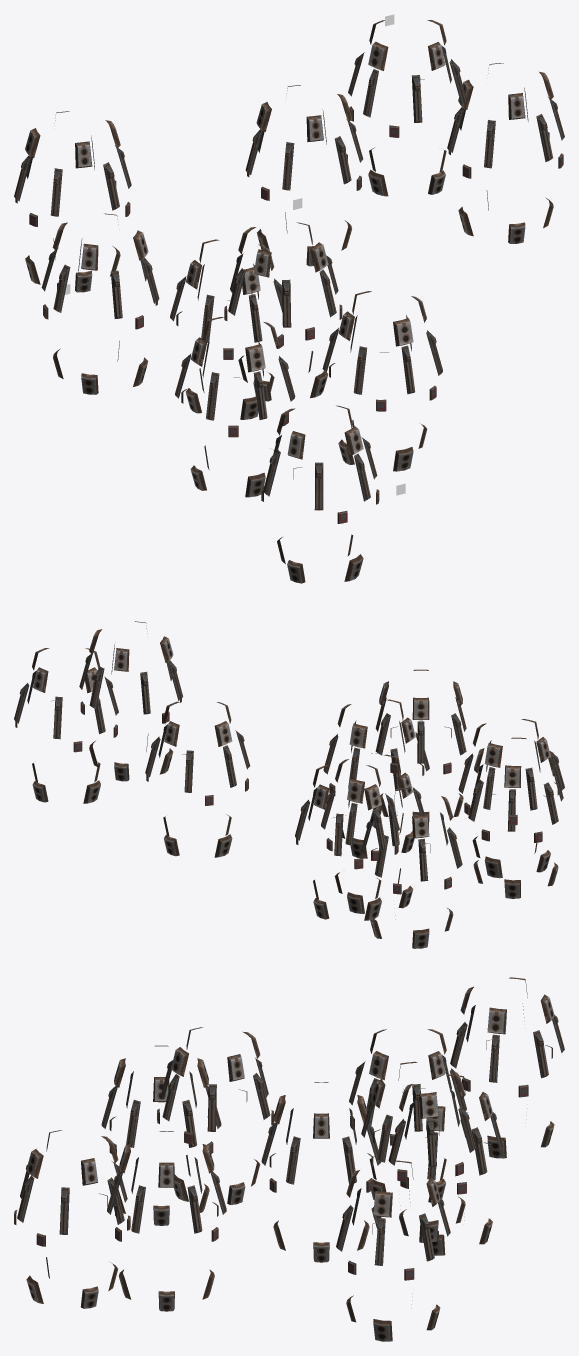
The model's file is prop_static_yao_container_01_04.glb.
The picture shows the model from 3 angles, top to bottom: view 1: azimuth 30°, elevation 25°; view 2: azimuth 150°, elevation 25°; view 3: azimuth 270°, elevation 25°; orthographic projection. The views are drawn at different scales.
Visible parts, largest first — view 1: yao_container_01_04_LOD0; view 2: yao_container_01_04_LOD0; view 3: yao_container_01_04_LOD0.
Boxes of the visible parts, x1,y1,x2,y2 form: yao_container_01_04_LOD0: (14,20,564,583); yao_container_01_04_LOD0: (14,621,564,948); yao_container_01_04_LOD0: (14,977,564,1341).
Size of what is drawn, in the model's own units: 10 by 7.11 by 9.6.
Materials: 3 (1 with a texture image).
